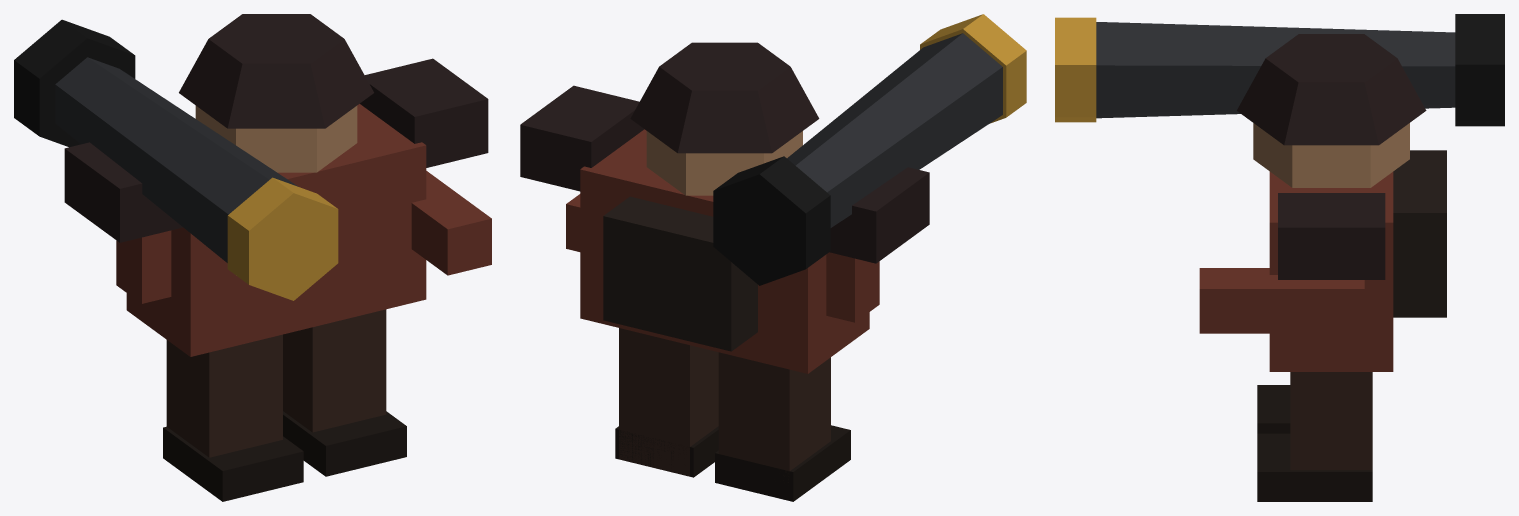
Rendered from enemy_grenadier.glb.
3 views of the same model, side by side, from view 1: azimuth 30°, elevation 25°; view 2: azimuth 150°, elevation 25°; view 3: azimuth 270°, elevation 25° (orthographic). The views are drawn at different scales.
Visible parts, largest first — view 1: body, legR, legL; view 2: body, legR, legL; view 3: body, legL, legR.
Boxes of the visible parts, x1,y1,x2,y2 form: body: [14, 14, 491, 356]; legR: [163, 334, 303, 501]; legL: [283, 309, 406, 476]; body: [520, 14, 1026, 373]; legR: [715, 352, 850, 501]; legL: [615, 328, 718, 477]; body: [1055, 14, 1504, 371]; legL: [1257, 372, 1372, 501]; legR: [1257, 385, 1290, 433].
Size of the model in its own units: 0.5 by 0.535 by 0.545.
